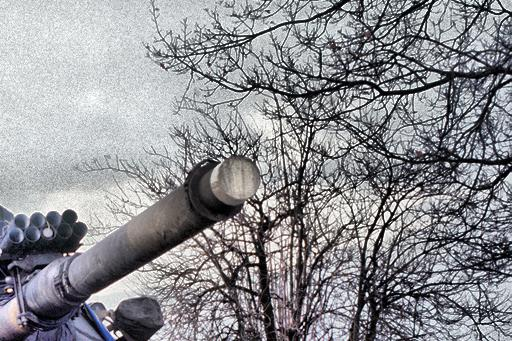tanks: (1, 157, 261, 341)
